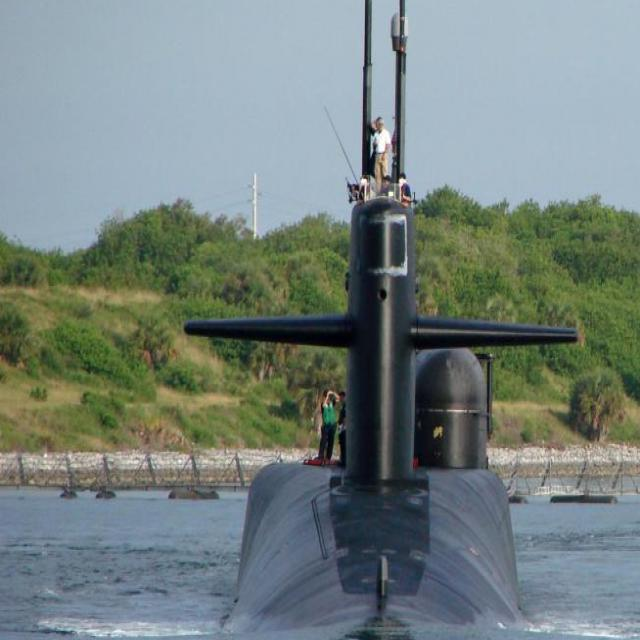submarine: (181, 1, 580, 640)
